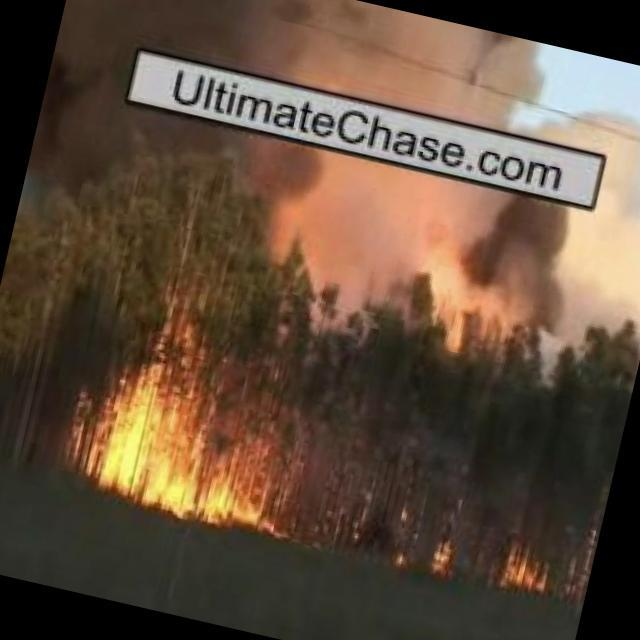Fire: (94, 362, 298, 535), (498, 540, 561, 601), (424, 533, 466, 578)
